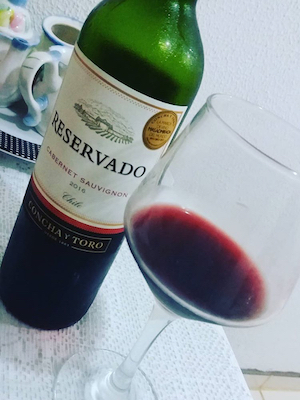reservado cabernet sauvignon: (12, 2, 153, 337)
